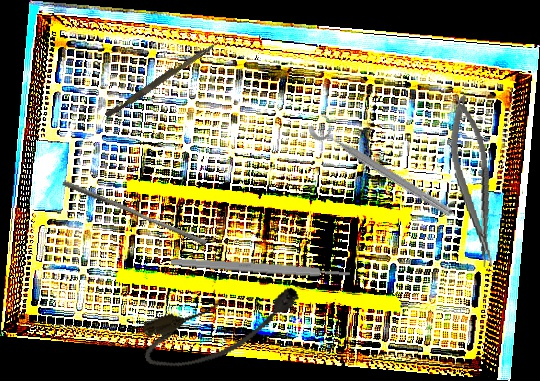Cannula: (135, 276, 310, 379)
Fixation Ring: (304, 109, 461, 222)
Needle Holder: (444, 92, 501, 271)
Pusher: (59, 179, 210, 247), (104, 36, 221, 121)
Scalpel Handle: (170, 256, 351, 280)
